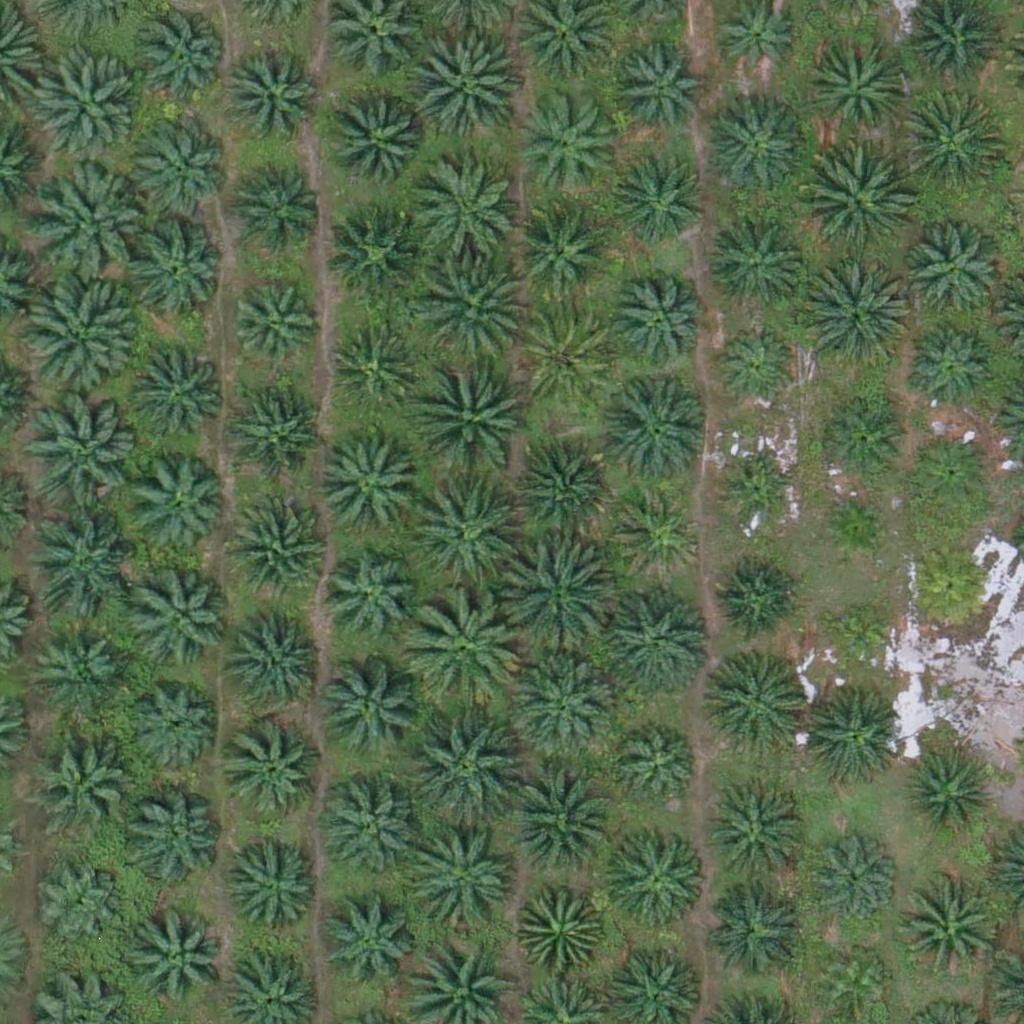Kelapa_Sawit: (405, 479, 518, 593), (414, 251, 527, 365), (410, 826, 523, 939), (409, 710, 522, 823), (798, 258, 911, 371), (799, 146, 912, 259), (408, 159, 521, 272), (414, 30, 527, 143), (22, 279, 135, 392), (35, 163, 148, 276), (26, 49, 139, 162), (510, 647, 622, 761), (416, 354, 528, 468), (23, 506, 135, 619), (407, 593, 519, 706), (497, 541, 609, 654), (502, 762, 614, 875), (600, 582, 712, 695), (897, 88, 1009, 201), (599, 372, 711, 485), (29, 395, 141, 508), (29, 618, 129, 719), (32, 729, 132, 830), (126, 452, 226, 553), (132, 906, 232, 1007), (224, 720, 324, 821), (225, 496, 325, 597), (322, 547, 422, 648), (320, 657, 420, 758), (315, 893, 415, 994), (606, 824, 706, 925), (708, 788, 808, 889), (706, 879, 806, 980), (799, 686, 899, 787), (898, 879, 998, 980), (902, 220, 1002, 321), (806, 39, 906, 140), (704, 99, 804, 200), (706, 212, 806, 313), (608, 271, 708, 372), (514, 89, 614, 190), (511, 199, 611, 300), (227, 384, 327, 485), (126, 217, 226, 318), (124, 343, 224, 444), (129, 12, 229, 112), (131, 571, 231, 671), (122, 788, 222, 888), (225, 836, 325, 936), (232, 607, 332, 707), (316, 438, 416, 538), (319, 775, 419, 875), (512, 442, 612, 542), (705, 650, 805, 750), (517, 308, 617, 408), (328, 90, 428, 190), (328, 204, 428, 304), (231, 155, 331, 255), (223, 46, 323, 146), (132, 119, 232, 219), (906, 540, 994, 629), (906, 427, 994, 515), (36, 861, 124, 949), (711, 325, 799, 413), (614, 157, 702, 245), (613, 48, 701, 136), (327, 323, 415, 411), (229, 285, 317, 373), (908, 323, 995, 412), (614, 490, 701, 578), (131, 682, 218, 770), (517, 882, 604, 970), (618, 724, 705, 812), (713, 554, 800, 642), (811, 831, 898, 919), (905, 751, 992, 839), (817, 397, 904, 485), (817, 489, 892, 565), (821, 597, 896, 673), (723, 460, 798, 535), (818, 945, 893, 1020)
